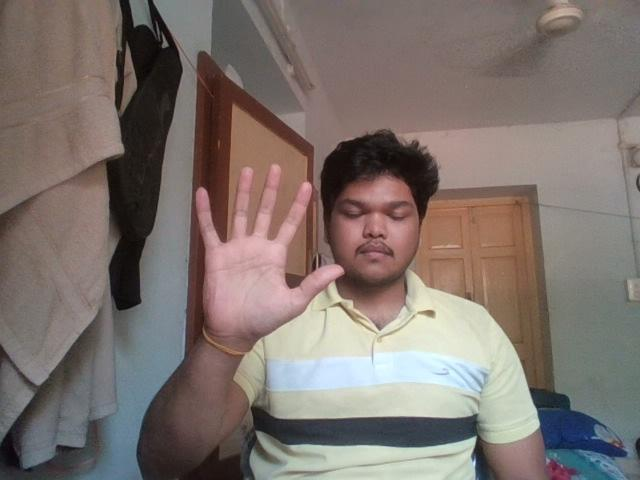hello: (178, 153, 345, 354)
